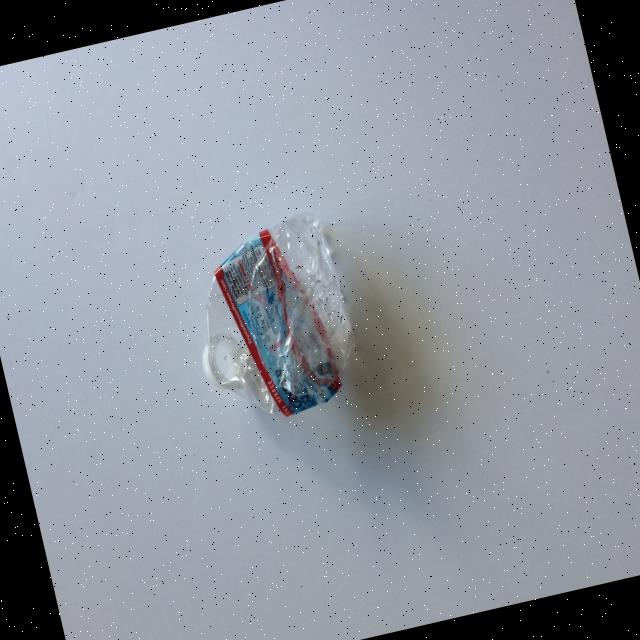plastic: (174, 206, 370, 432)
